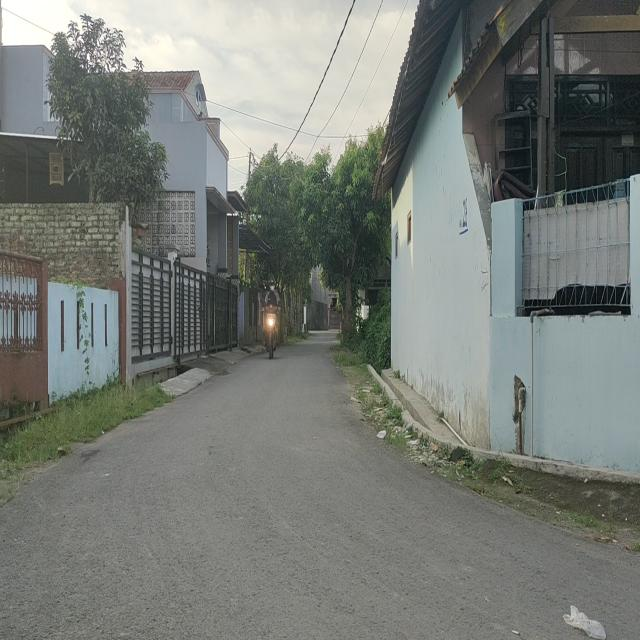no-helmet: (268, 278, 276, 294)
